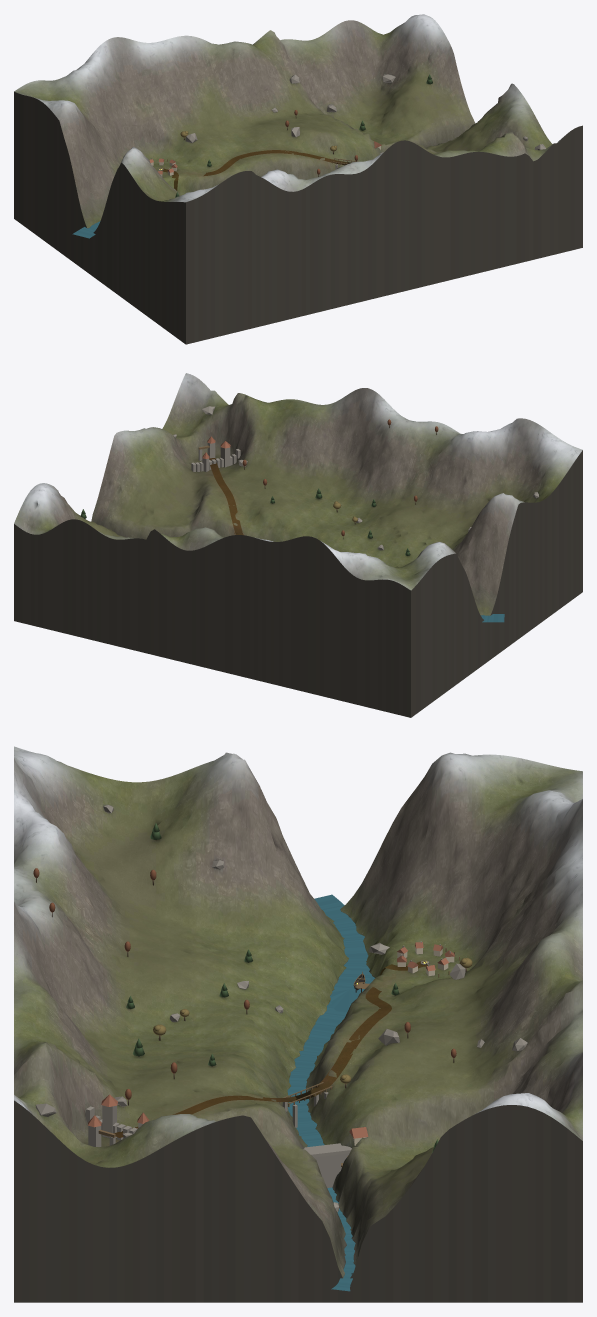
The picture shows the model from 3 angles, top to bottom: view 1: azimuth 30°, elevation 25°; view 2: azimuth 150°, elevation 25°; view 3: azimuth 270°, elevation 25°; orthographic projection. The views are drawn at different scales.
Parts seen in each view (by area): view 1: edge_skirt, ground_valley, walk_road, rocks; view 2: edge_skirt, ground_valley, clifftown, walk_road, veg_canopy; view 3: ground_valley, edge_skirt, water_river, walk_road, veg_canopy, rocks, clifftown, dam, village, walk_village_green.
Part boxes in pixels (x1,y1,x2,y2): edge_skirt: [14, 91, 582, 344]; ground_valley: [14, 14, 564, 228]; walk_road: [162, 150, 350, 176]; rocks: [174, 74, 545, 189]; edge_skirt: [14, 450, 582, 717]; ground_valley: [14, 373, 582, 615]; clifftown: [191, 436, 240, 471]; walk_road: [209, 458, 243, 535]; veg_canopy: [80, 419, 438, 555]; ground_valley: [14, 746, 582, 1277]; edge_skirt: [14, 1100, 582, 1302]; water_river: [287, 894, 371, 1291]; walk_road: [114, 961, 427, 1137]; veg_canopy: [33, 823, 472, 1152]; rocks: [35, 805, 527, 1212]; clifftown: [86, 1094, 149, 1146]; dam: [303, 1127, 368, 1187]; village: [397, 941, 459, 977]; walk_village_green: [393, 950, 456, 976].
Bounding box in the file's own units: 130 × 46 × 90.
6 materials, 3 textured.
